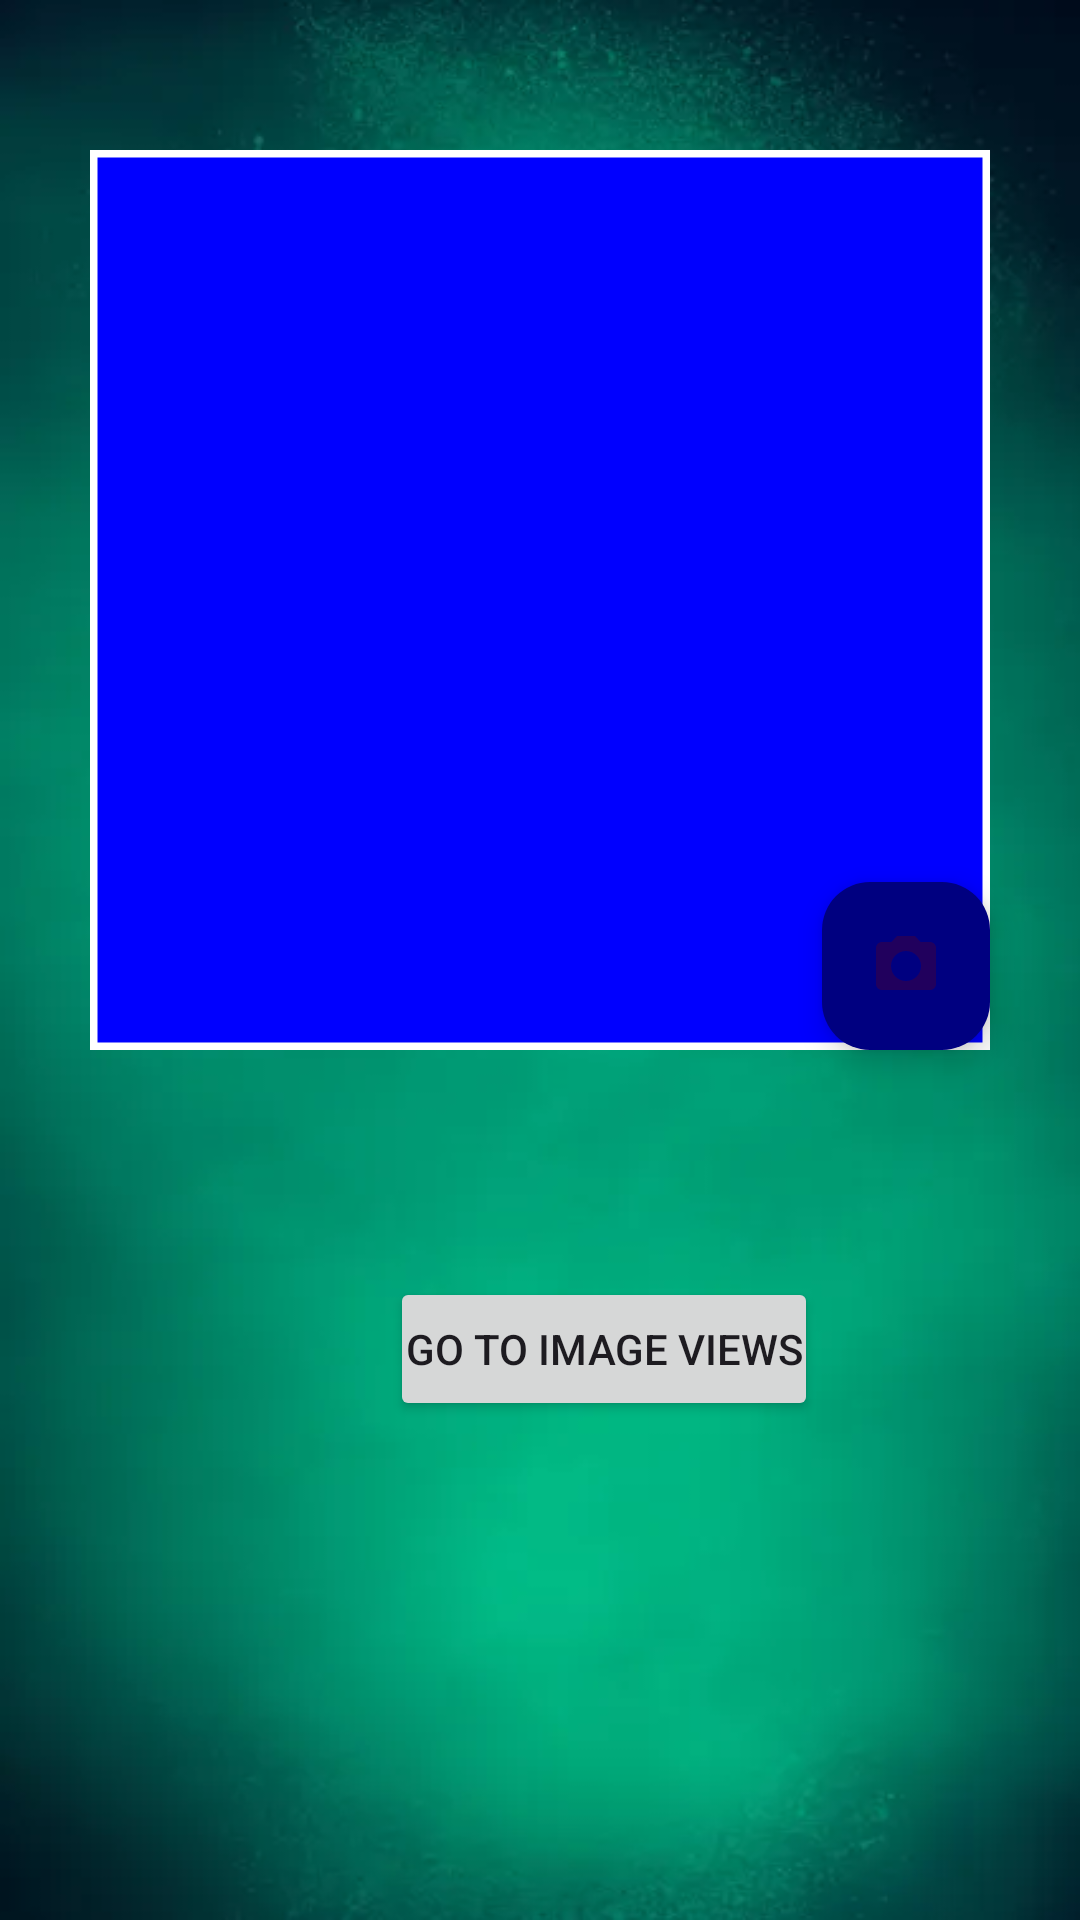

Screen size 1080×1920. Icon name, then its center in pixels as point (x, y):
imagepicker baseline photo camera: point (906, 966)
